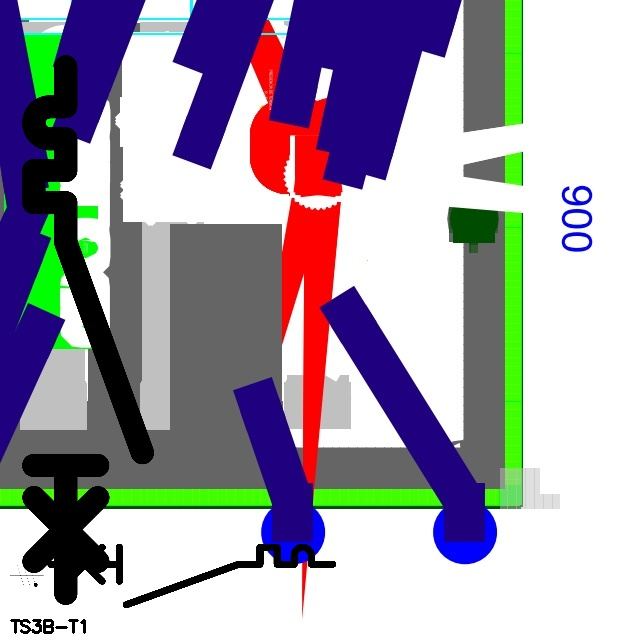interruptor_termomagnetico: (20, 53, 155, 607), (43, 540, 340, 612)
